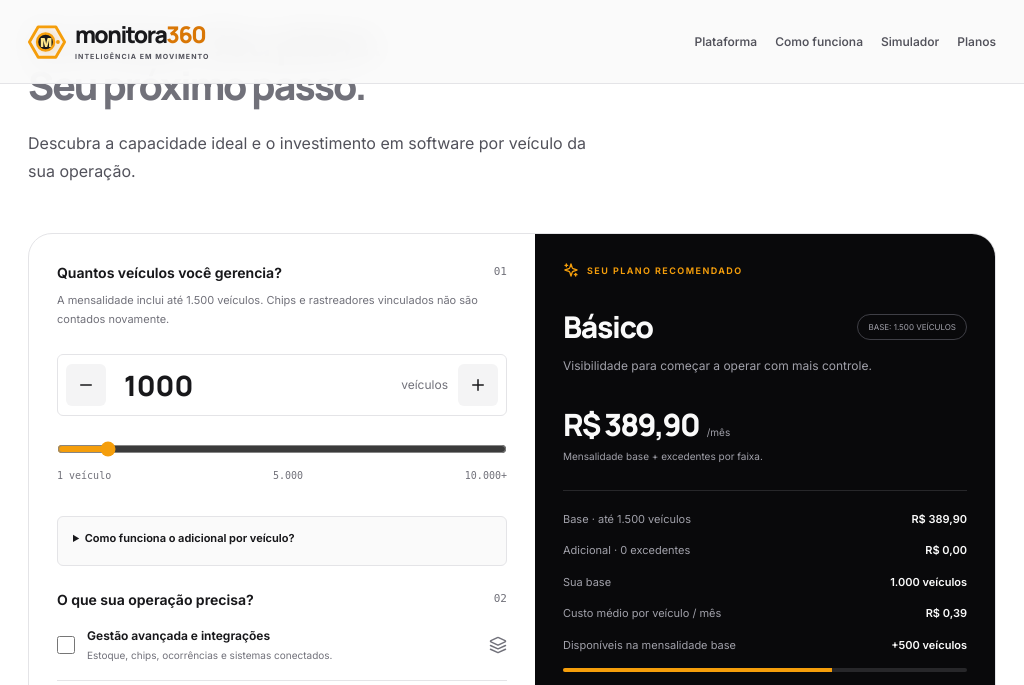
Test: fluxo comercial da landing › recomenda, sincroniza ciclos e leva a simulação ao formulário
(page scrolled)
Replace the text in the number field labelled "Quantos veículos você gerencia?" with "3500" at (254, 385), box [116,363,391,407]
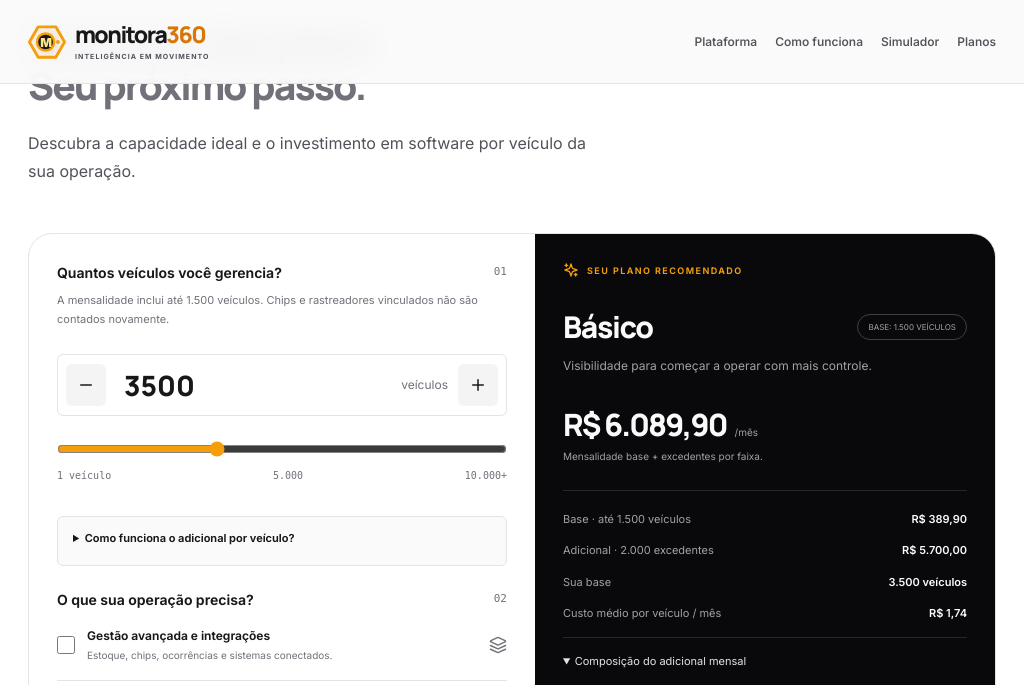
Click the checkbox labelled "Gestão avançada".
click(66, 645)  # box [57,636,75,654]
(page scrolled)
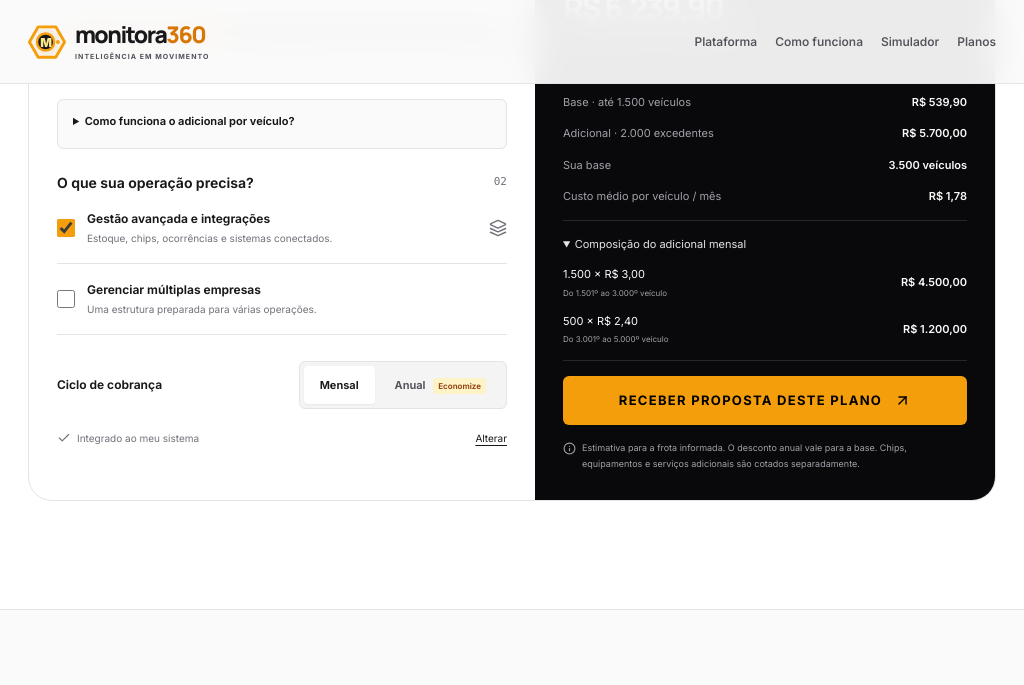
Click the button "Anual Economize" in the row of "Ciclo de cobrança".
click(440, 385)  # box [379,366,502,404]
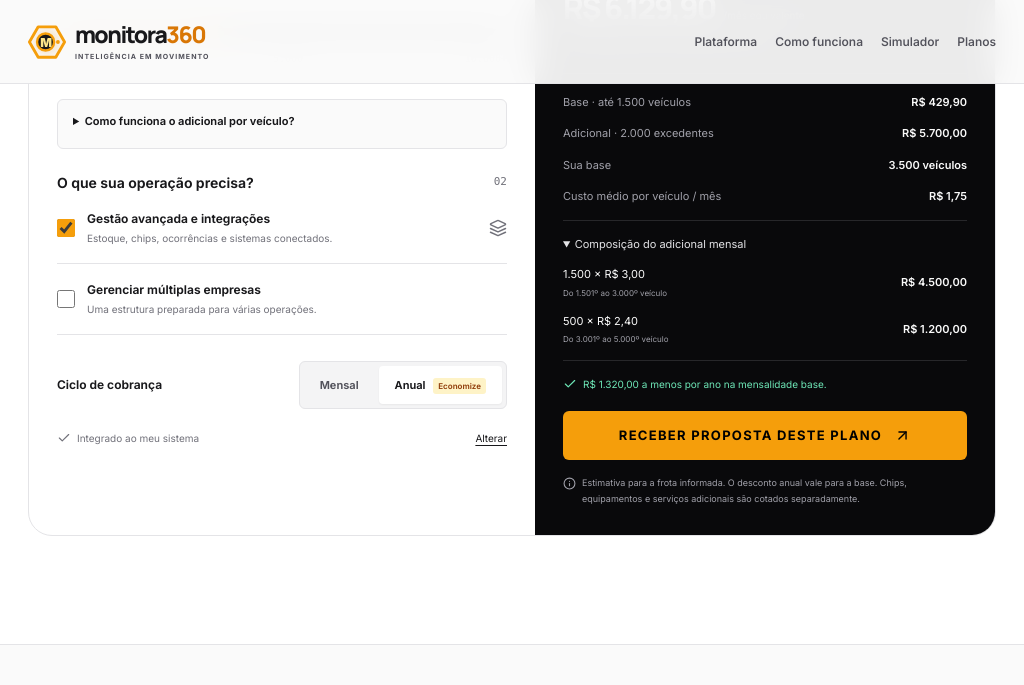
Click the link "Receber proposta deste plano".
click(765, 435)  # box [563,411,967,460]
(page scrolled)
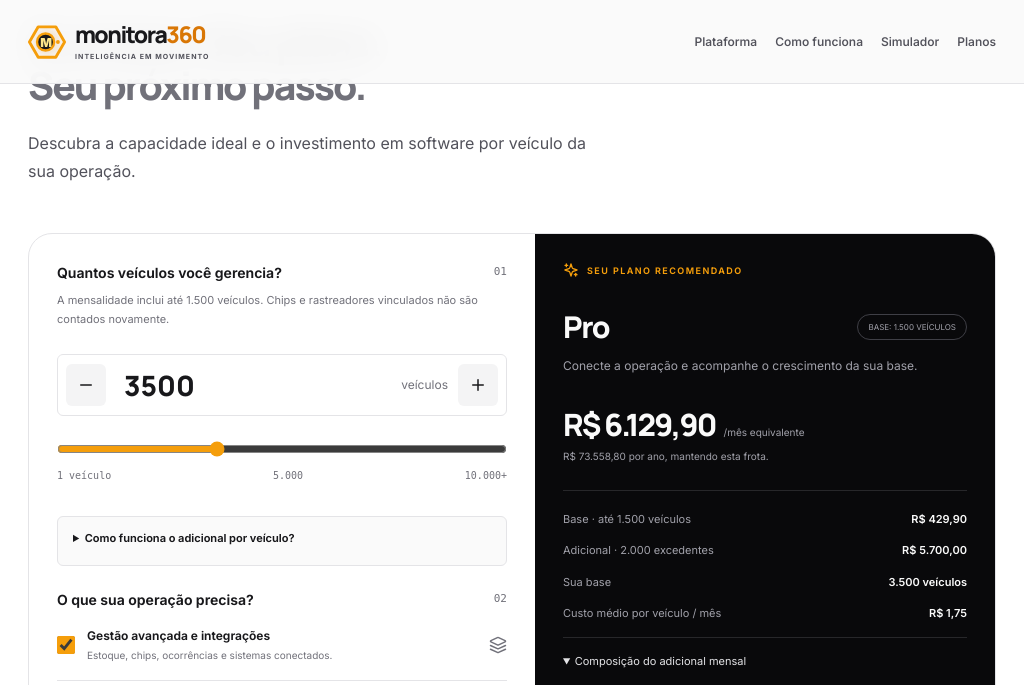
Clear the number field labelled "Quantos veículos você gerencia?" at (254, 385), box [116,363,391,407]
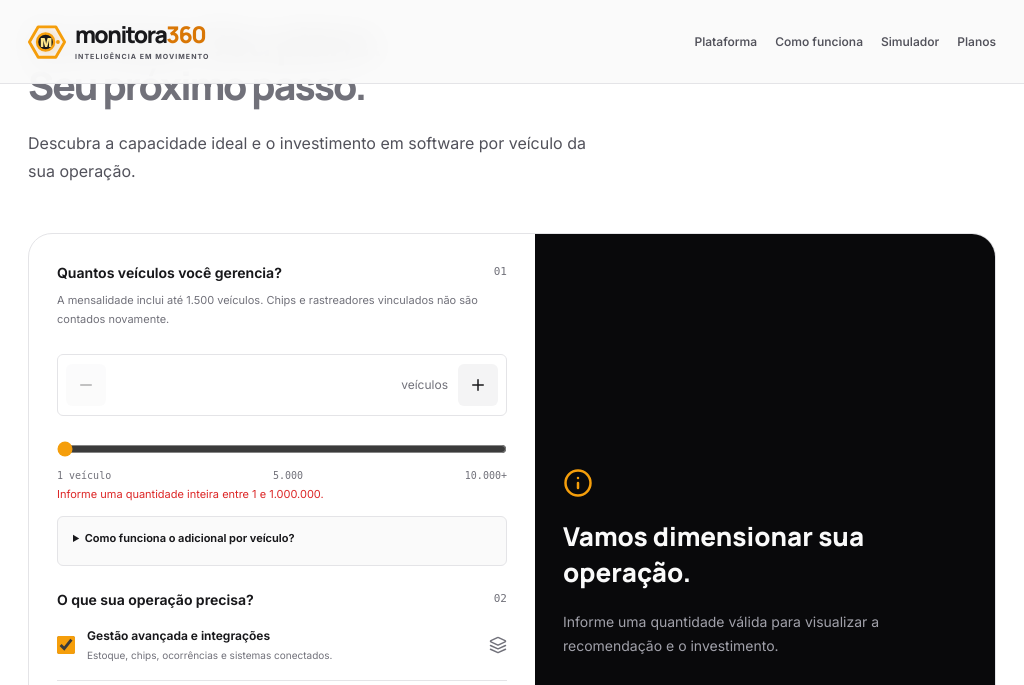
Result: the message shows "quantidade inteira" at [57,487,324,501]
